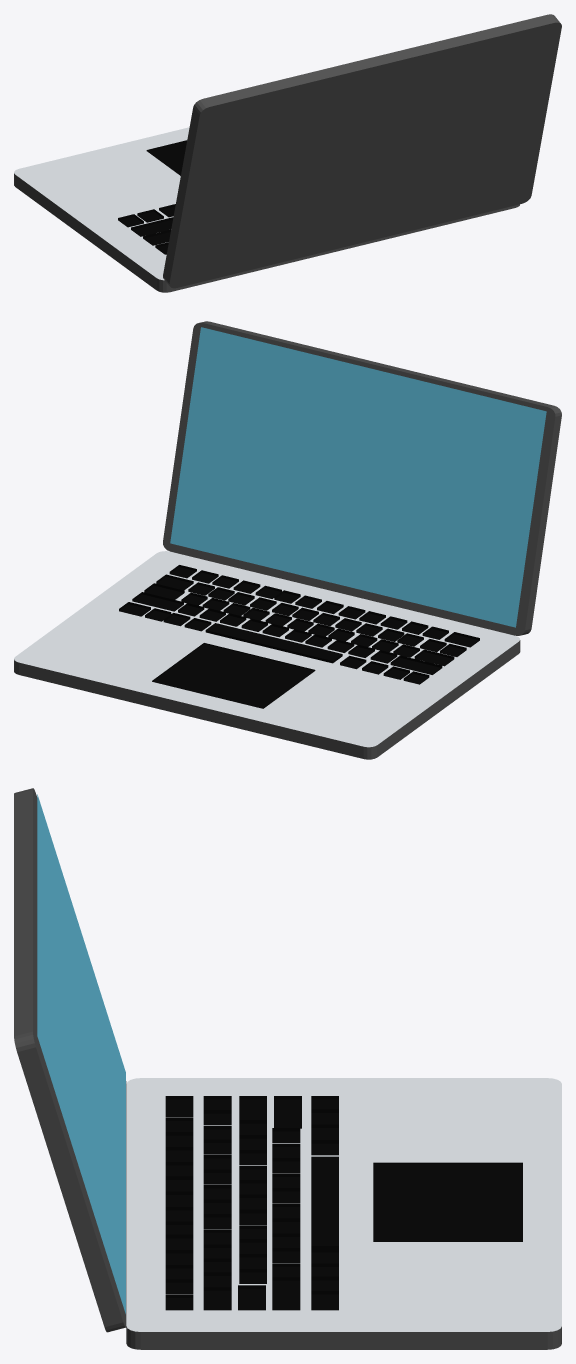
File: laptop.glb
The picture shows the model from 3 angles, top to bottom: view 1: azimuth 30°, elevation 25°; view 2: azimuth 150°, elevation 25°; view 3: azimuth 270°, elevation 25°; orthographic projection. The views are drawn at different scales.
Visible parts, largest first — view 1: Top, Bottom, Keyboard; view 2: Screen, Bottom, Keyboard, Top; view 3: Bottom, Keyboard, Screen, Top.
Part boxes in pixels (x1,y1,x2,y2): Top: [163, 14, 561, 288]; Bottom: [14, 127, 519, 292]; Keyboard: [118, 140, 187, 254]; Screen: [170, 327, 546, 627]; Bottom: [14, 551, 520, 759]; Keyboard: [119, 565, 479, 708]; Top: [163, 321, 561, 635]; Bottom: [126, 1078, 561, 1349]; Keyboard: [165, 1096, 522, 1310]; Screen: [37, 794, 125, 1313]; Top: [14, 788, 126, 1332].
Size of the model in its own units: 0.2 by 0.1146 by 0.1824.
